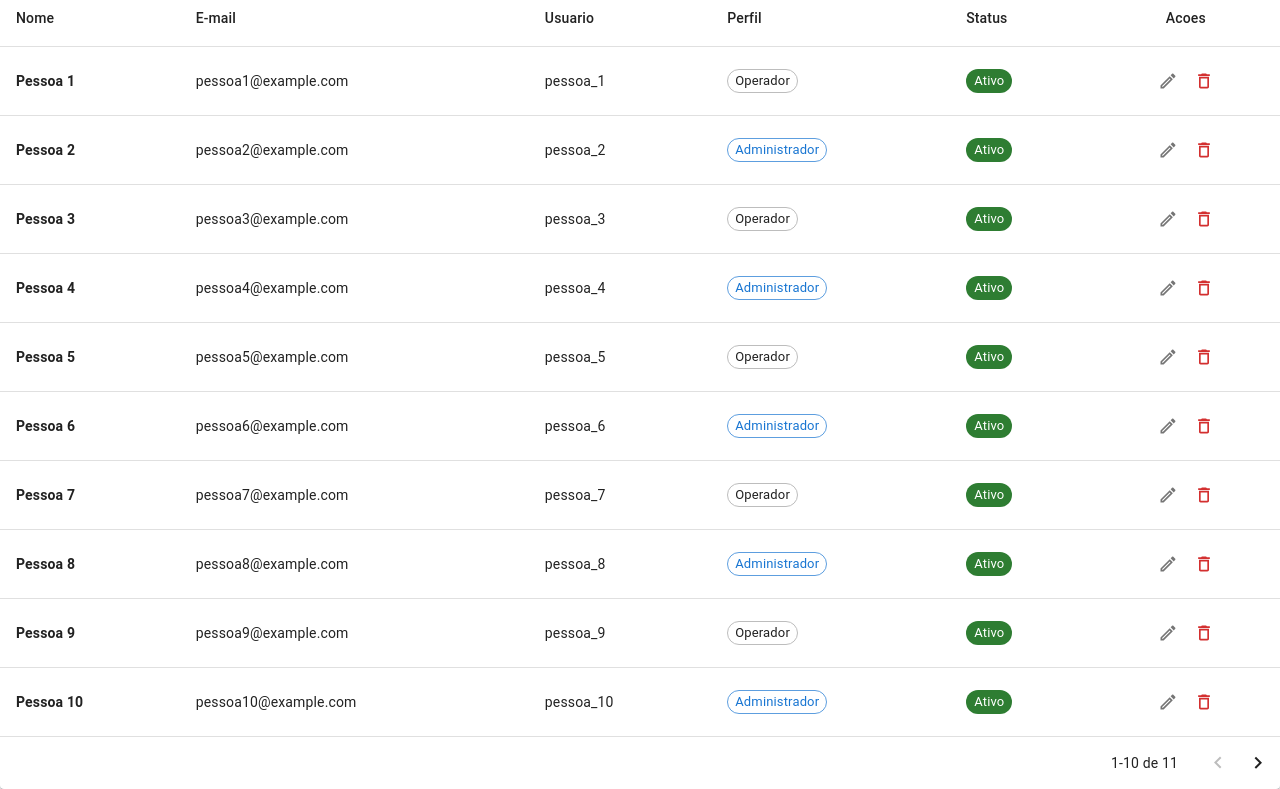
Test: AccessPage › exibe dez acessos por pagina
This screenshot has width=1280, height=789.
(page scrolled)
Expected: the text "Pessoa 1" is shown, [0,46,180,116]
Expected: the text "Pessoa 10" is shown, [0,668,180,736]
Click the button named "Proxima pagina" at (1258,763), box [1238,743,1278,783]
(page scrolled)
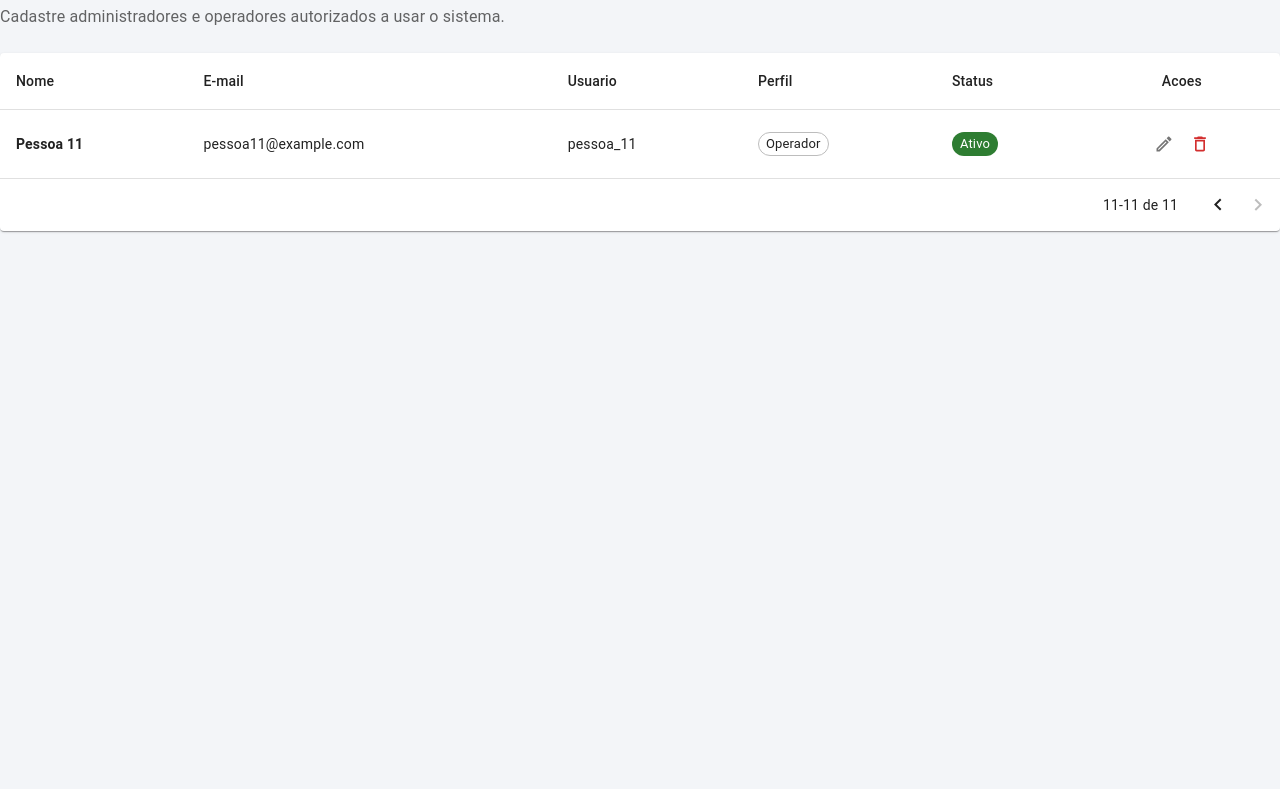
Expected: the text "Pessoa 11" is shown, [0,110,187,178]
Expected: the text "11-11 de 11" is shown, [1103,195,1178,215]
